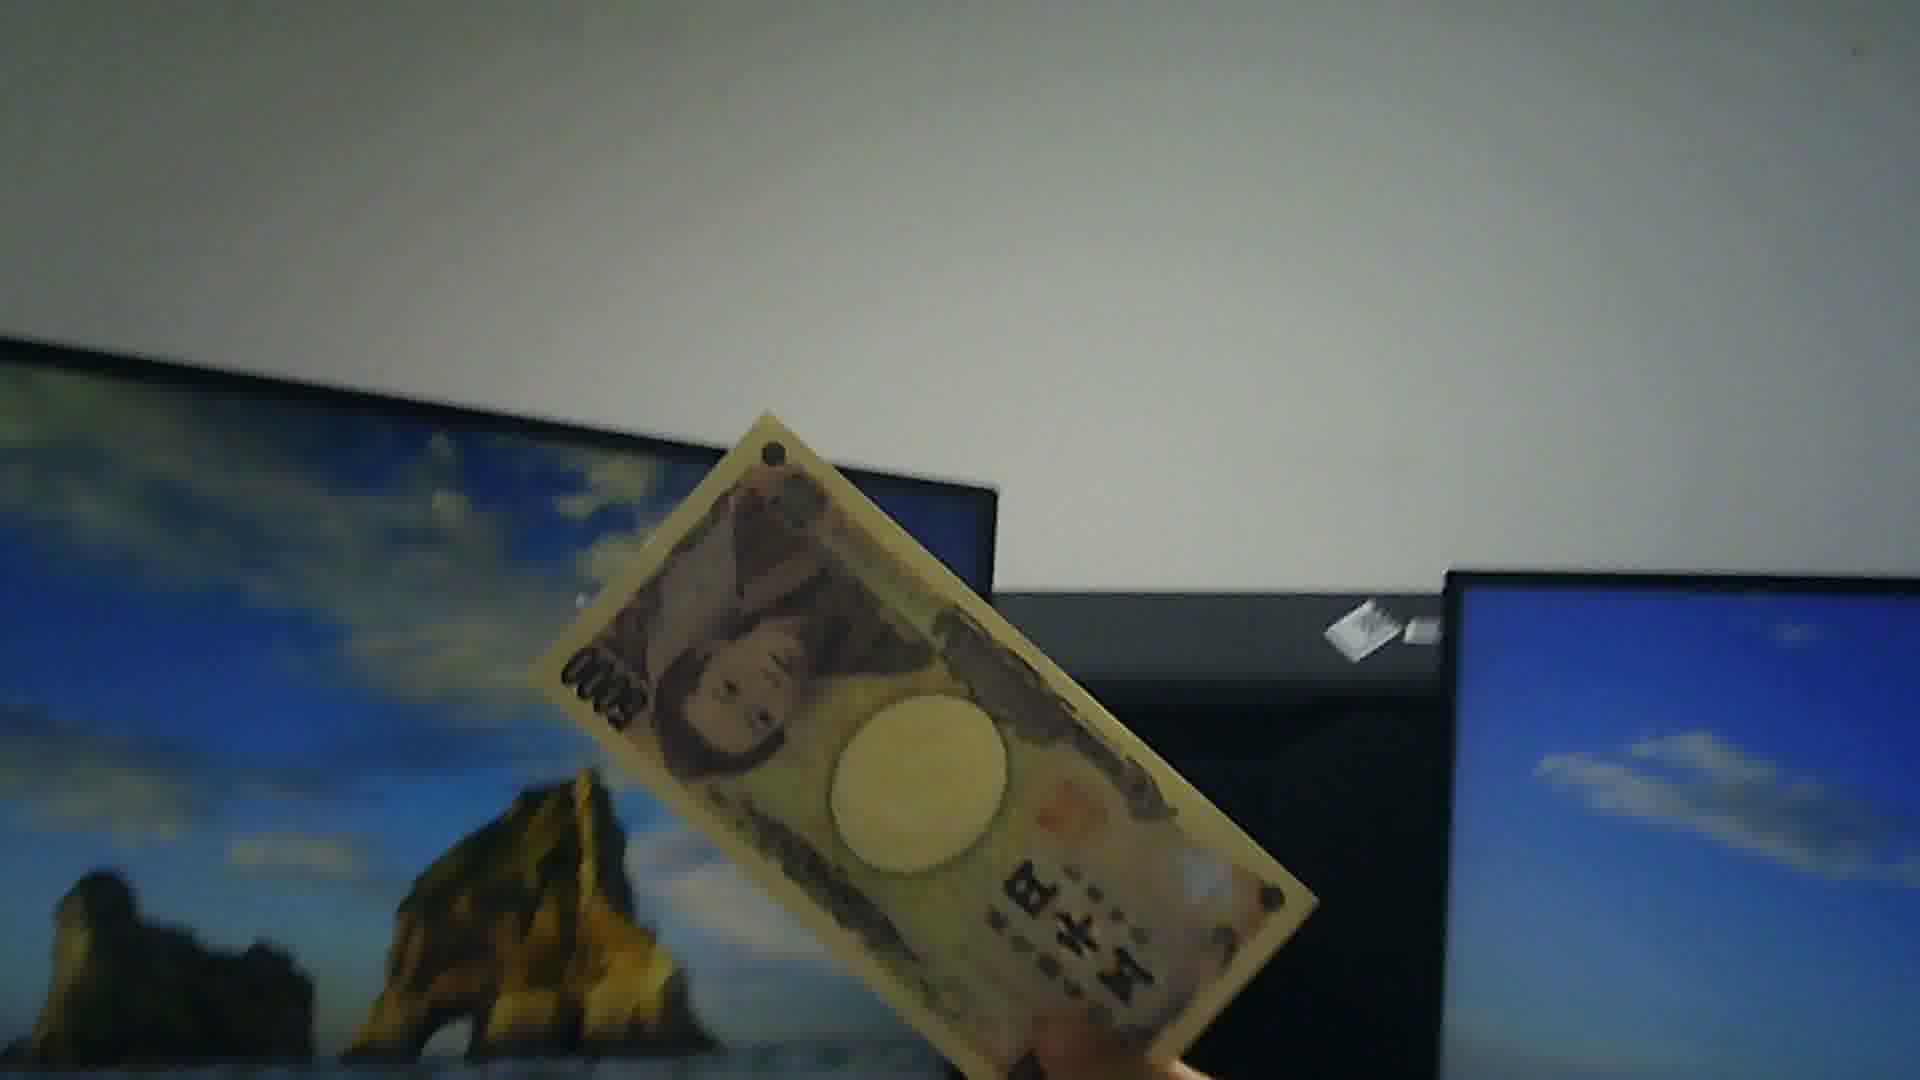5,000 Yen: (520, 406, 1315, 1079)
